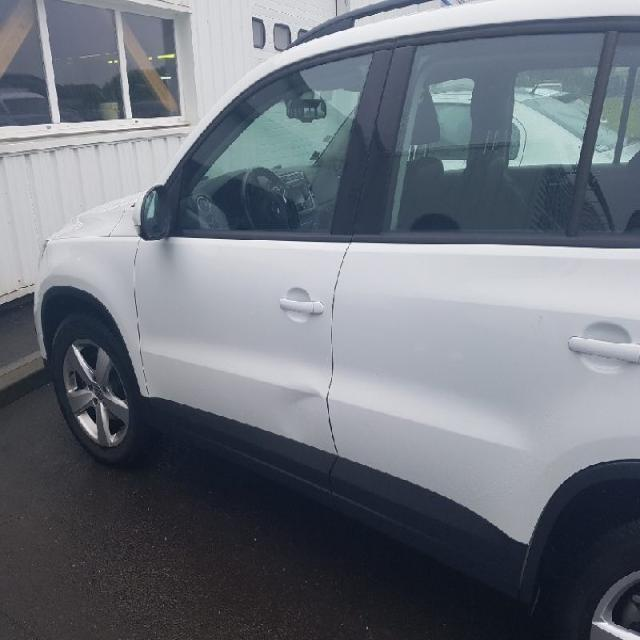porte-avant: (131, 37, 397, 514)
